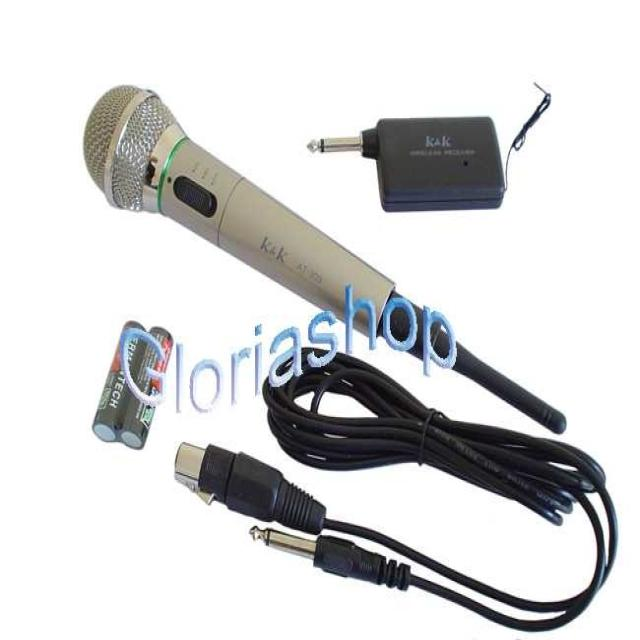microphone: (71, 68, 427, 414)
